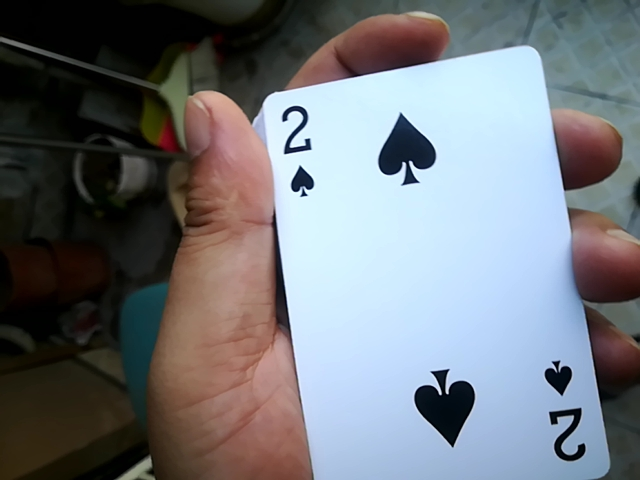ht 2: (236, 52, 607, 473)
